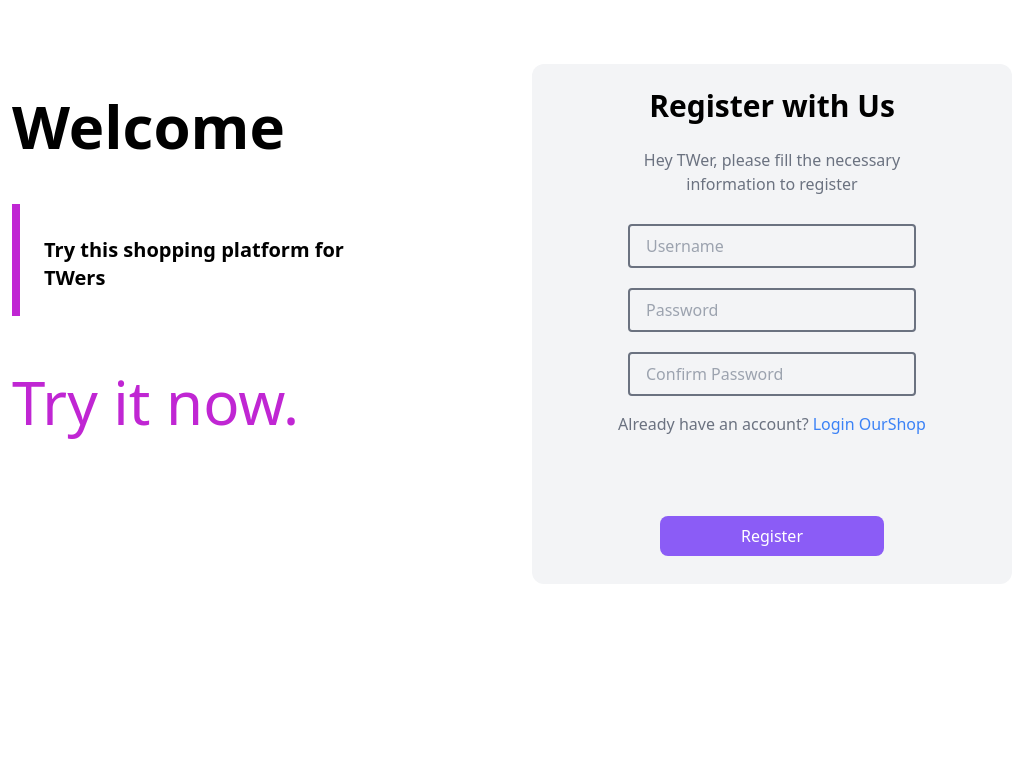
Test case: display register page › should show error tips when username is missing
Type "111" into the password field with test id "password".
click(772, 310); type("111")  # box [628, 288, 916, 332]
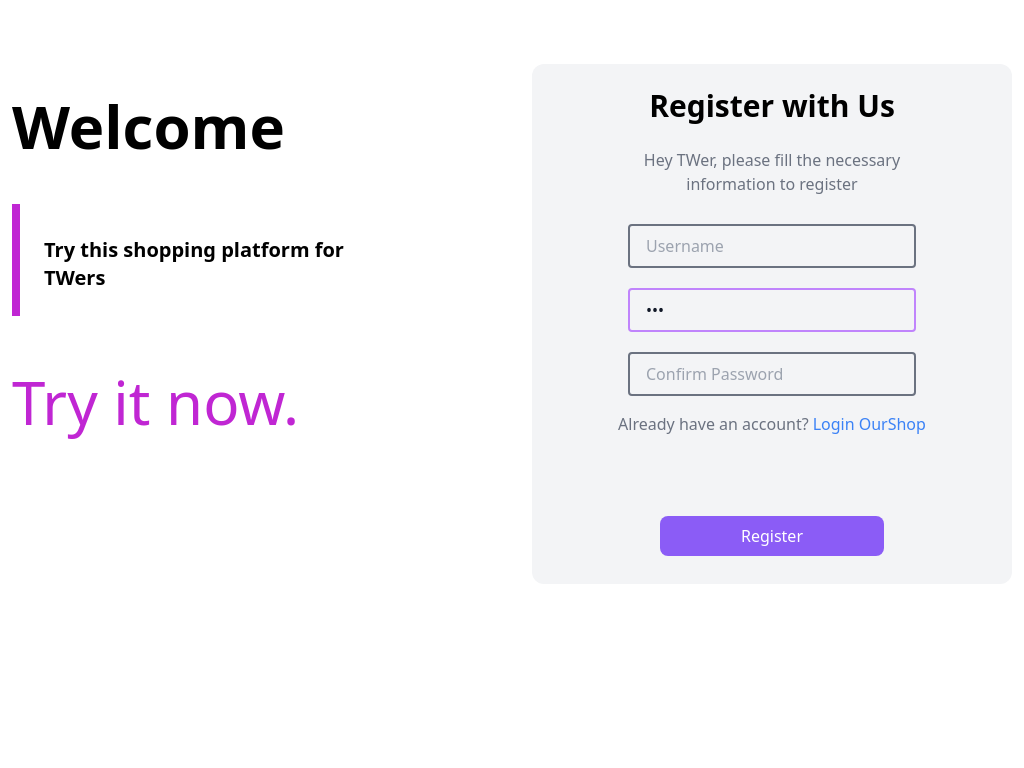
Type "111" into the password field with test id "confirmPassword".
click(772, 374); type("111")  # box [628, 352, 916, 396]
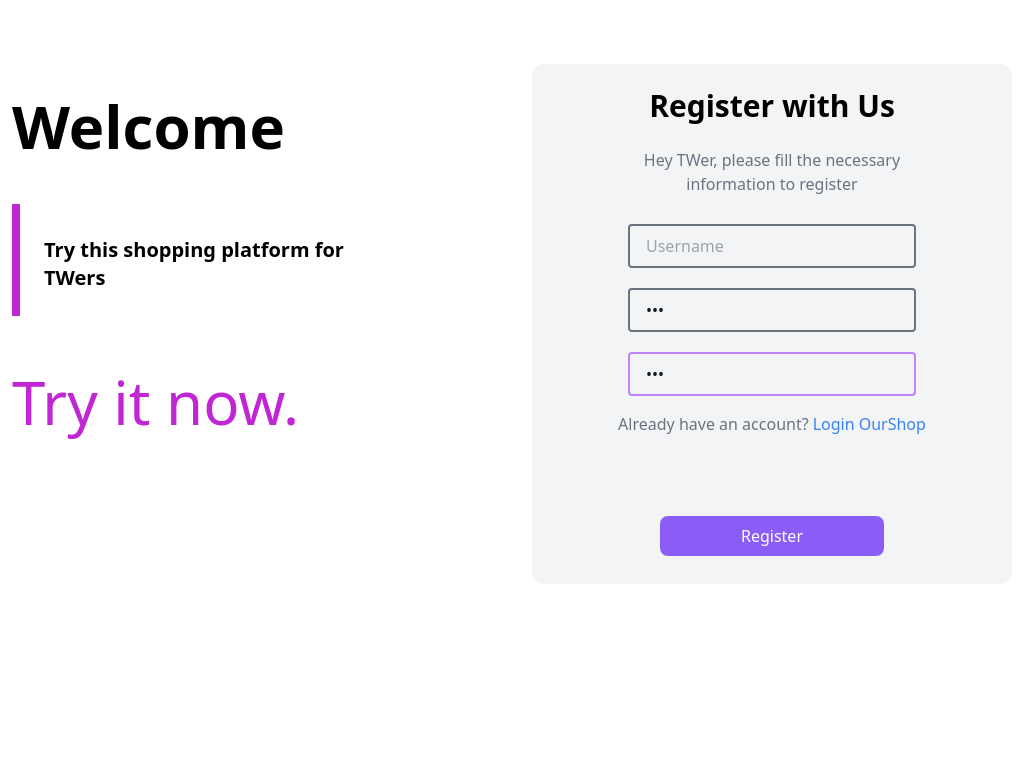
Click the button with test id "register-btn".
click(772, 536)  # box [660, 516, 884, 556]
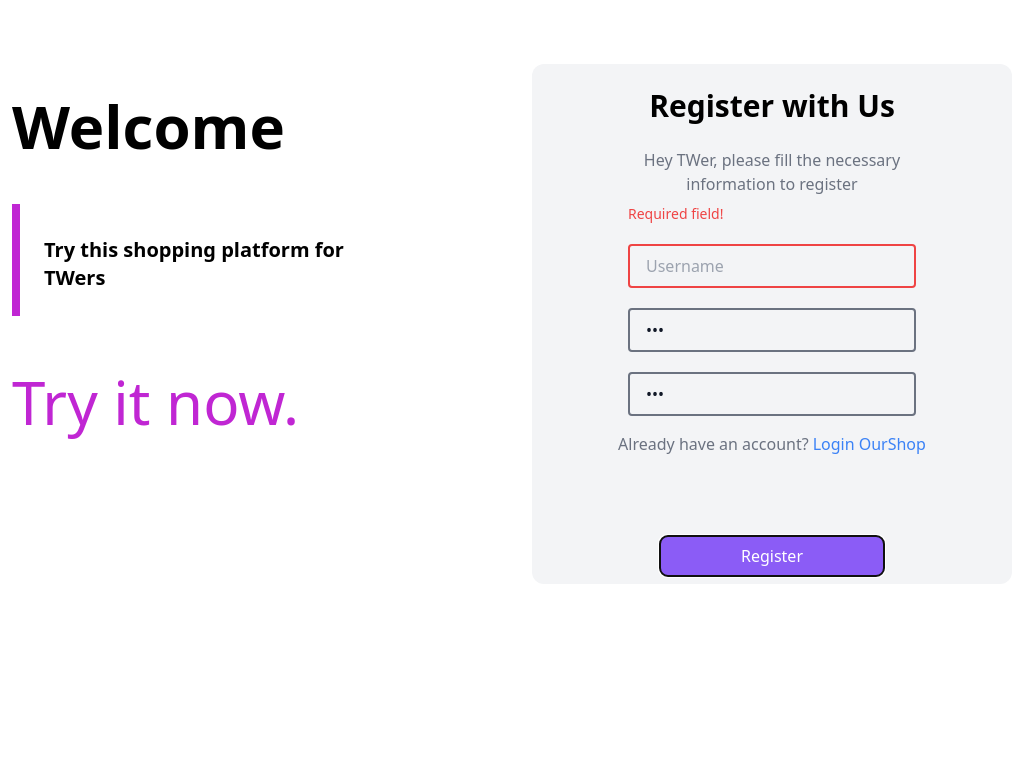
Expected: the text "Required field!" is shown, [628, 204, 724, 223]
